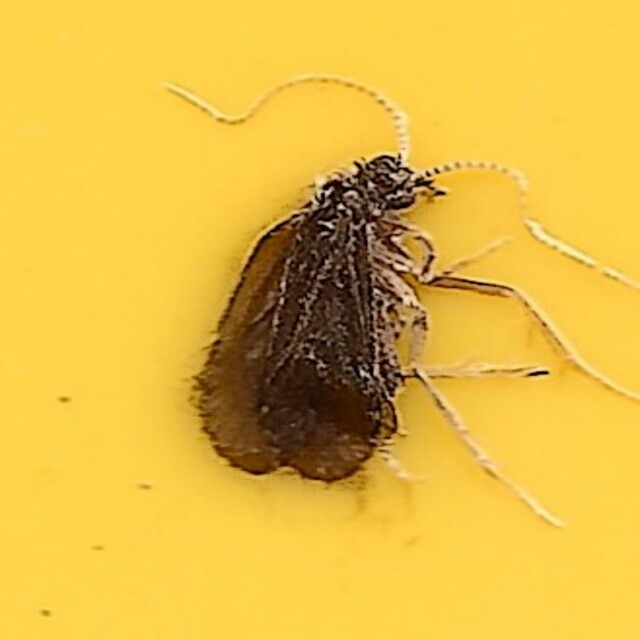Trichoptera: (195, 151, 445, 489)
